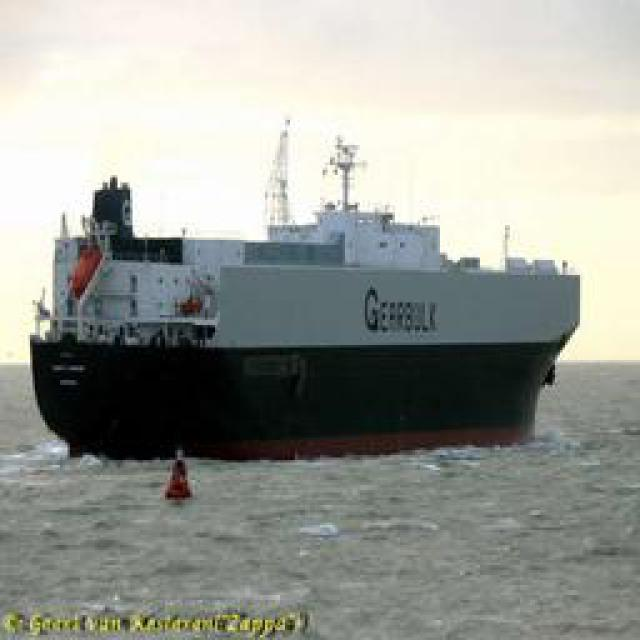Ship: (35, 121, 578, 454)
